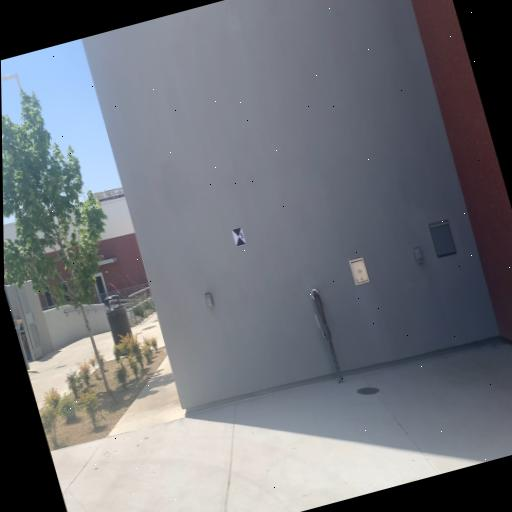target5: (231, 225, 246, 247)
